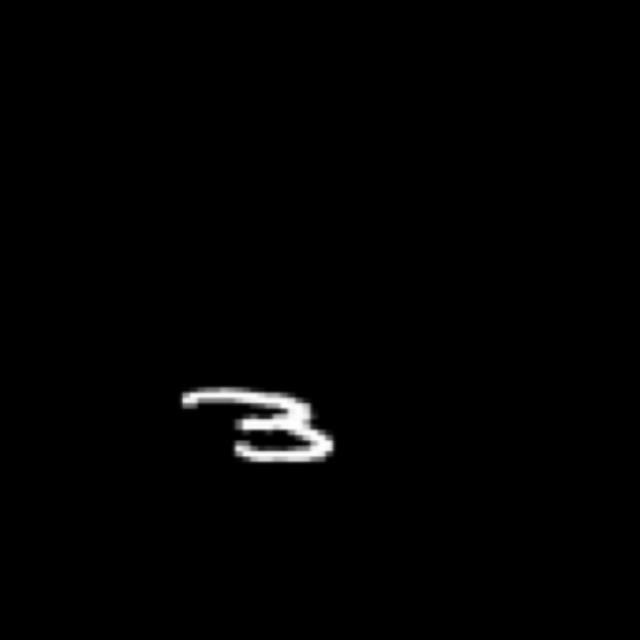three -3-: (166, 375, 352, 482)
